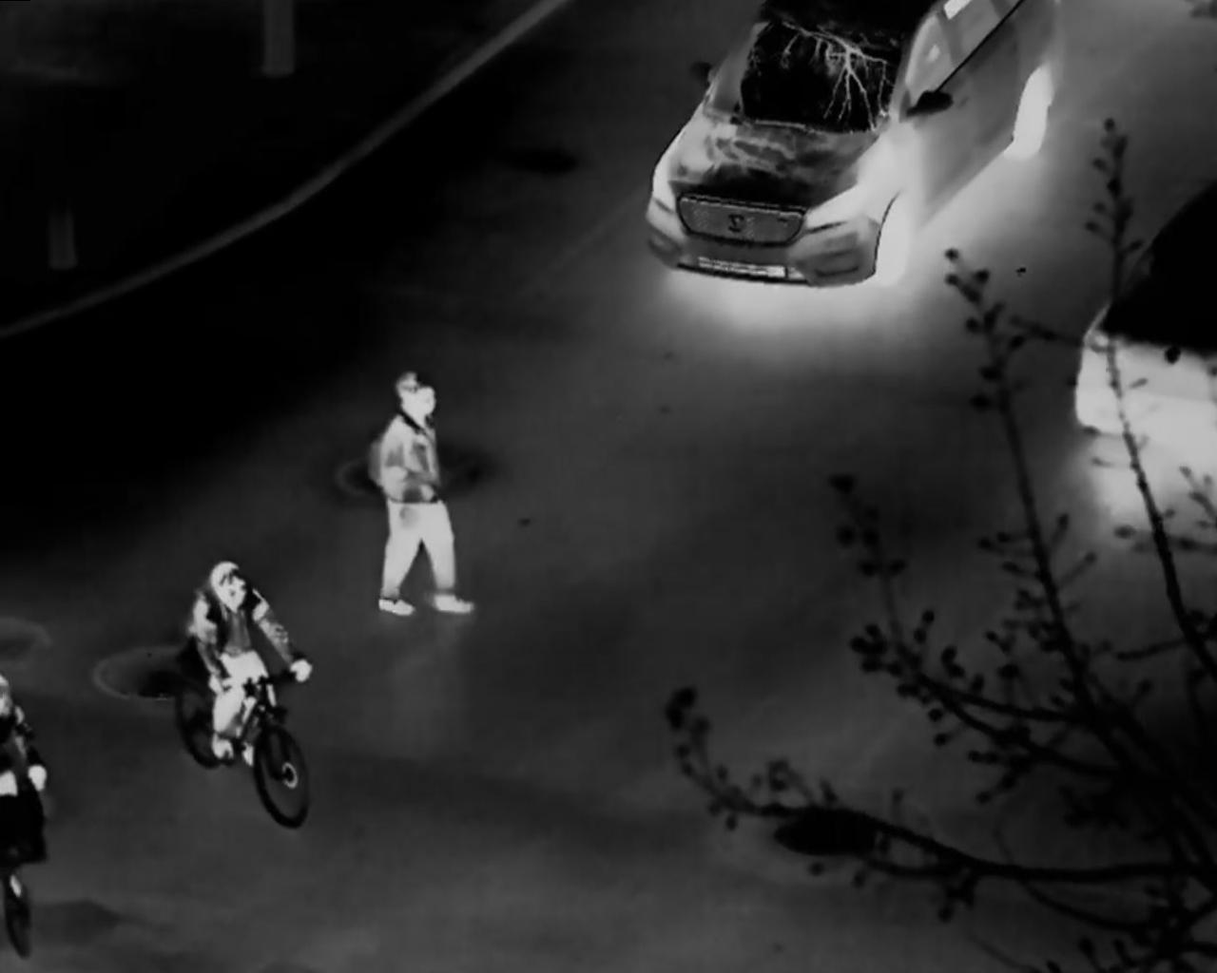person: (365, 370, 474, 617), (193, 561, 314, 768)
